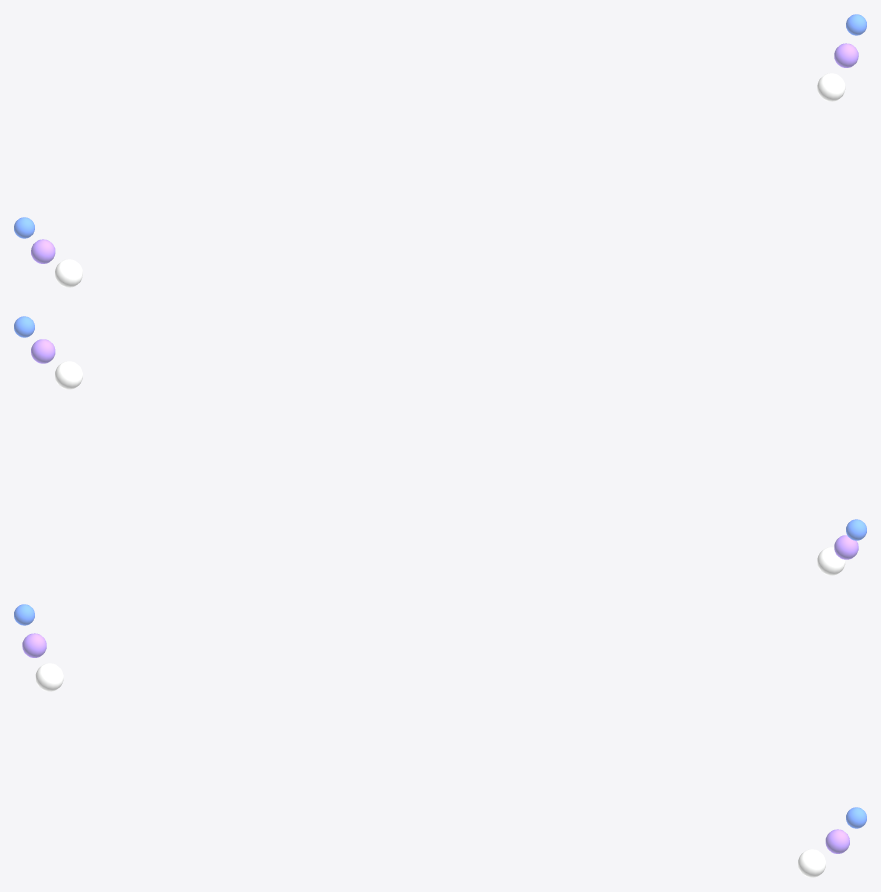
The model's file is jewelry_pearl_tripple.glb.
3 views of the same model, one above another, from view 1: azimuth 30°, elevation 25°; view 2: azimuth 150°, elevation 25°; view 3: azimuth 330°, elevation 25° (orthographic).
Visible parts, largest first — view 1: jewelry_pearl_tripple; view 2: jewelry_pearl_tripple; view 3: jewelry_pearl_tripple.
Part boxes in pixels (left/top/right/bottom): jewelry_pearl_tripple: left=14, top=14, right=866, bottom=287; jewelry_pearl_tripple: left=14, top=316, right=866, bottom=575; jewelry_pearl_tripple: left=14, top=604, right=866, bottom=877.
Bounding box in the file's own units: 0.3743 × 0.0293 × 0.0167.
